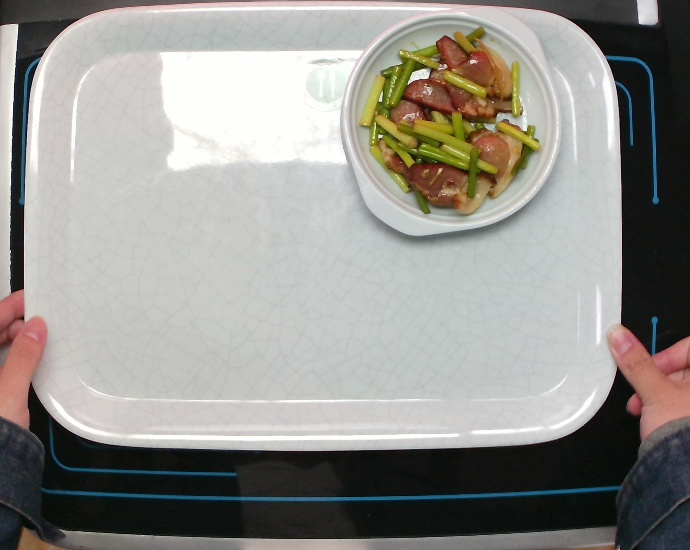JYsf-Shuang_Er_Pan: (338, 4, 564, 239)
